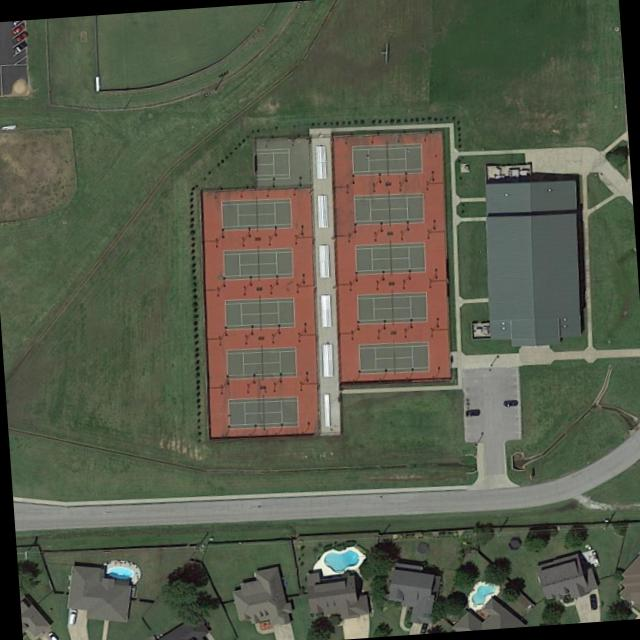small-vehicle: (10, 23, 25, 35), (12, 31, 27, 43), (66, 609, 76, 626), (12, 42, 26, 54), (588, 594, 597, 611), (463, 409, 478, 417), (46, 631, 58, 640), (502, 400, 516, 407)
